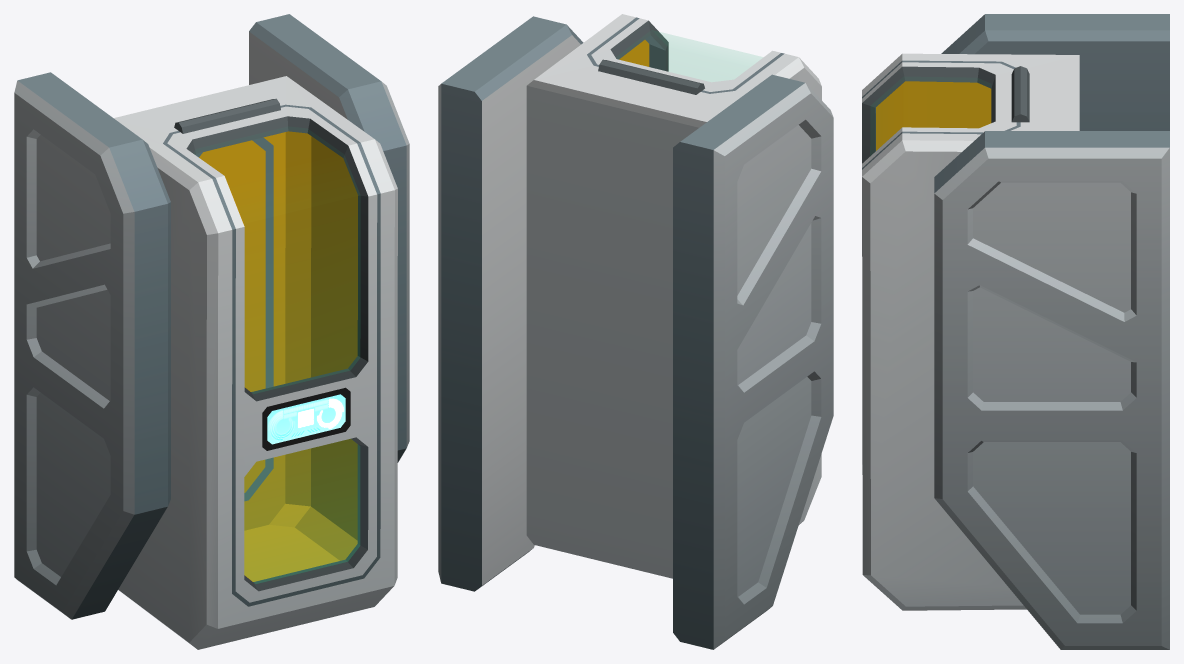
3 renders of one model, left to right at view 1: azimuth 30°, elevation 25°; view 2: azimuth 150°, elevation 25°; view 3: azimuth 270°, elevation 25°, orthographic.
Visible parts, largest first — view 1: Сapsule_001, Сapsule_001_door_001; view 2: Сapsule_001, Сapsule_001_door_001; view 3: Сapsule_001, Сapsule_001_door_001.
Part boxes in pixels (x1,y1,x2,y2): Сapsule_001: (14,14,409,649); Сapsule_001_door_001: (163,104,380,606); Сapsule_001: (438,14,833,649); Сapsule_001_door_001: (587,17,784,93); Сapsule_001: (862,14,1169,649); Сapsule_001_door_001: (862,60,1020,474).
Bounding box in the file's own units: 1.2 × 2 × 1.11.
Materials: 4 (3 with a texture image).
